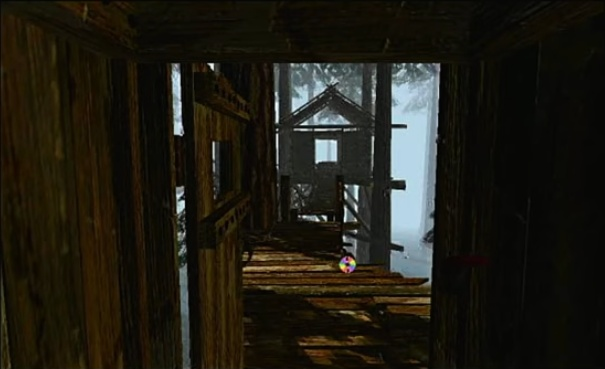Waiting: (336, 253, 359, 274)
